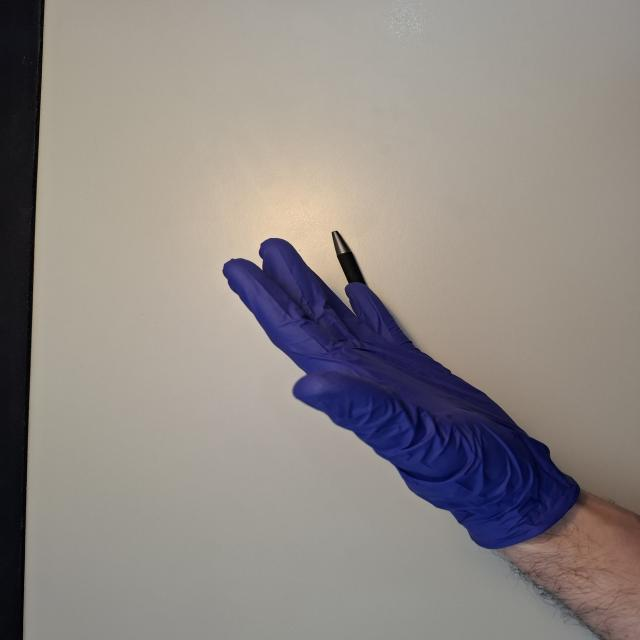glove_on: (220, 236, 578, 550)
